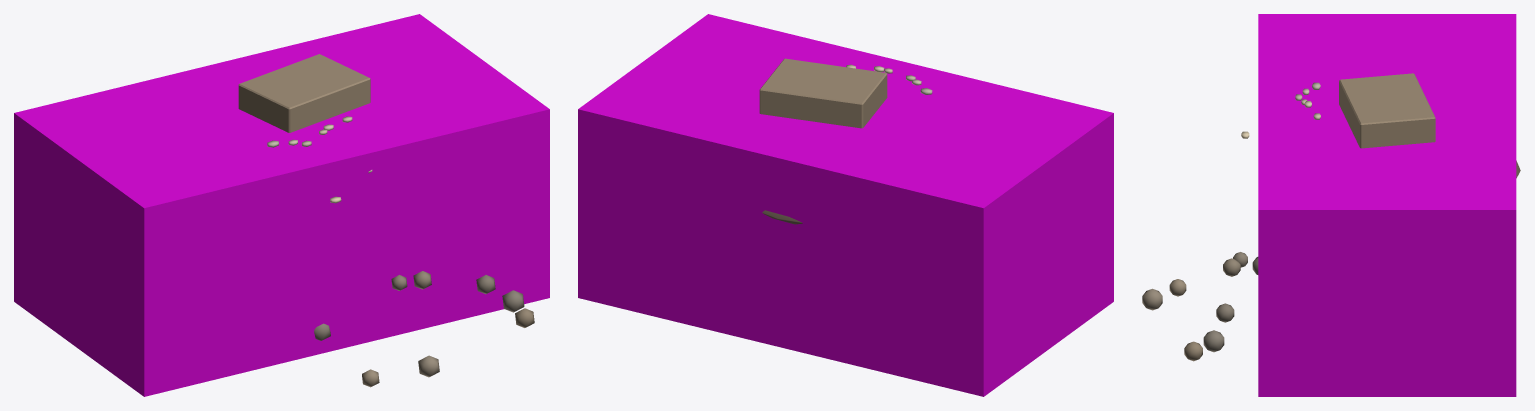
The model's file is PRP_Stone_Work_Surface_A.glb.
The picture shows the model from 3 angles, left to right: view 1: azimuth 30°, elevation 25°; view 2: azimuth 150°, elevation 25°; view 3: azimuth 270°, elevation 25°; orthographic projection.
Parts seen in each view (by area): view 1: COL_Slab, PRP_Stone_Work_Surface_A_Mesh; view 2: COL_Slab, PRP_Stone_Work_Surface_A_Mesh; view 3: COL_Slab, PRP_Stone_Work_Surface_A_Mesh.
Boxes of the visible parts, x1,y1,x2,y2 form: COL_Slab: (14, 14, 549, 396); PRP_Stone_Work_Surface_A_Mesh: (238, 54, 534, 387); COL_Slab: (578, 14, 1113, 396); PRP_Stone_Work_Surface_A_Mesh: (759, 58, 932, 224); COL_Slab: (1258, 14, 1516, 396); PRP_Stone_Work_Surface_A_Mesh: (1142, 73, 1520, 361).
Size of the model in its own units: 1.8 by 0.9306 by 1.47.
